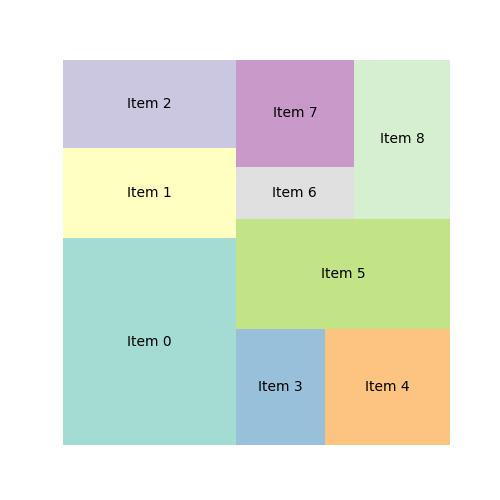rectangle: (64, 238, 238, 445), (238, 217, 449, 329), (59, 149, 236, 239), (62, 60, 236, 149), (356, 59, 451, 219), (324, 329, 452, 445), (236, 60, 356, 166), (238, 329, 324, 446), (236, 167, 355, 217)
